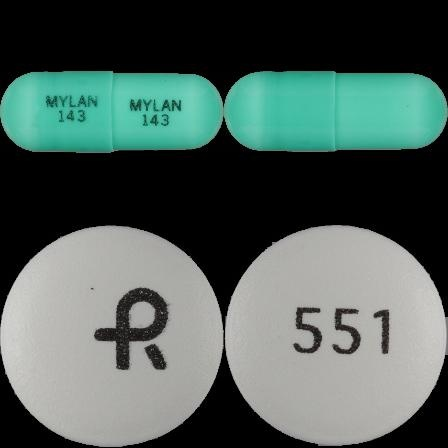55289-147: (0, 0, 224, 224)
